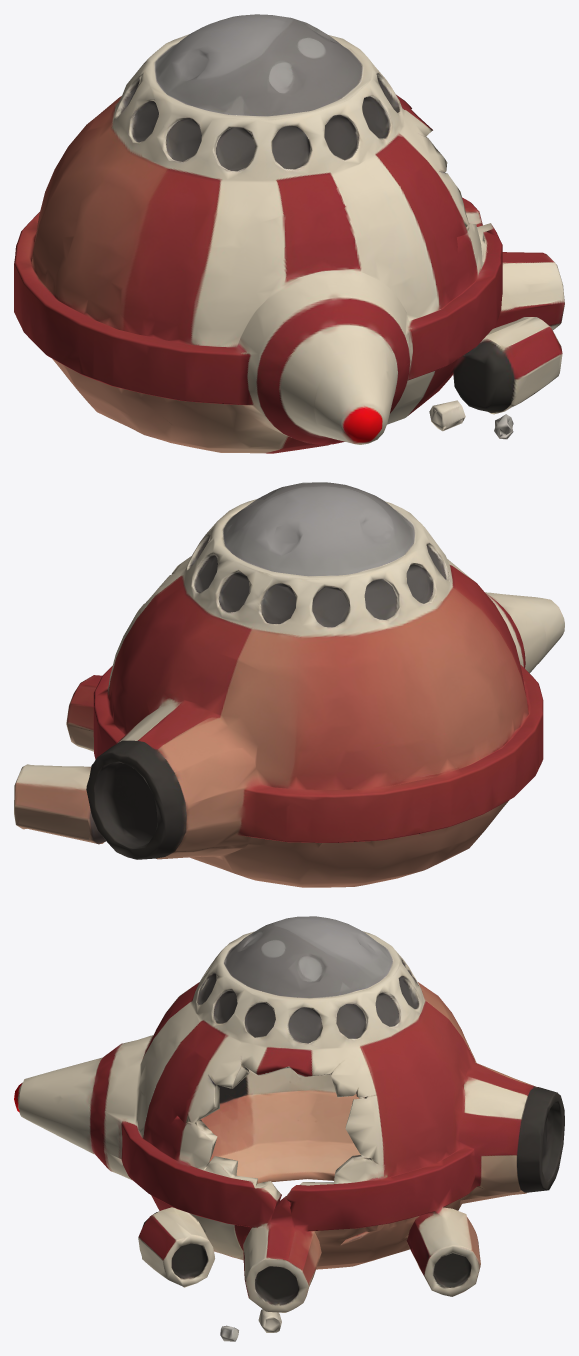
File: ship.glb
The picture shows the model from 3 angles, top to bottom: view 1: azimuth 30°, elevation 25°; view 2: azimuth 150°, elevation 25°; view 3: azimuth 270°, elevation 25°; orthographic projection. The views are drawn at different scales.
Parts seen in each view (by area): view 1: tripo_node_bc849b27-8e25-4610-8e0d-27fa12a81182; view 2: tripo_node_bc849b27-8e25-4610-8e0d-27fa12a81182; view 3: tripo_node_bc849b27-8e25-4610-8e0d-27fa12a81182.
Part boxes in pixels (bbox=[...]): tripo_node_bc849b27-8e25-4610-8e0d-27fa12a81182: bbox=[14, 14, 564, 453]; tripo_node_bc849b27-8e25-4610-8e0d-27fa12a81182: bbox=[14, 482, 564, 887]; tripo_node_bc849b27-8e25-4610-8e0d-27fa12a81182: bbox=[14, 916, 564, 1341].
Size of the model in its own units: 0.8187 by 0.6791 by 1.
Materials: 1 (1 with a texture image).
